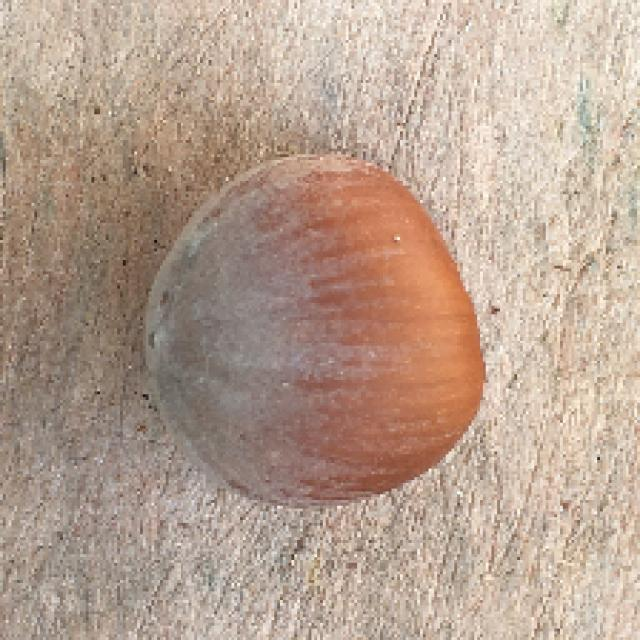qualityHazelnut: (140, 148, 488, 522)
